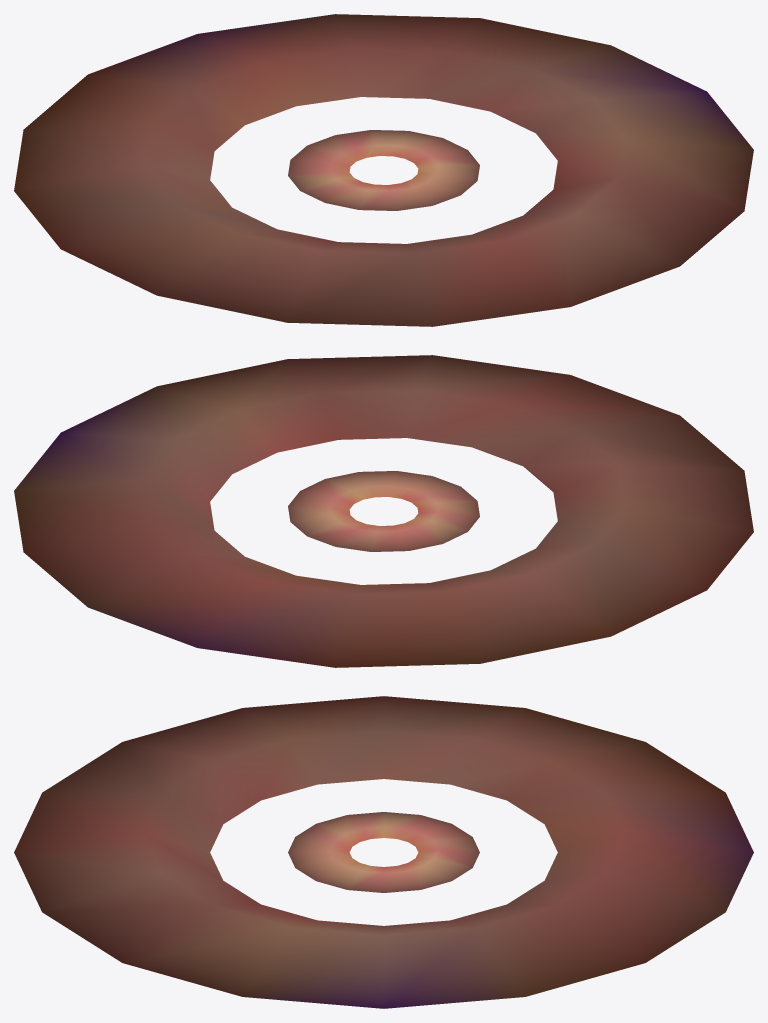
Rendered from space-nebulae-ring-nebula_v1.glb.
3 views of the same model, one above another, from view 1: azimuth 30°, elevation 25°; view 2: azimuth 150°, elevation 25°; view 3: azimuth 270°, elevation 25° (orthographic).
Visible parts, largest first — view 1: Ring Nebula_v1; view 2: Ring Nebula_v1; view 3: Ring Nebula_v1.
Part boxes in pixels (x1=…): Ring Nebula_v1: x1=14, y1=14, x2=753, y2=326; Ring Nebula_v1: x1=14, y1=355, x2=753, y2=667; Ring Nebula_v1: x1=14, y1=696, x2=753, y2=1008.
Bounding box in the file's own units: 0.5 × 0.0283 × 0.5.
